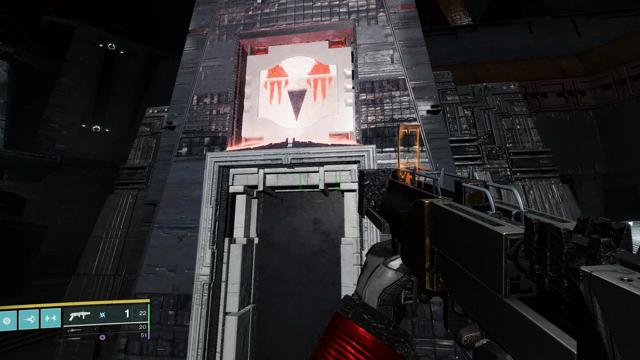give: (258, 56, 339, 130)
